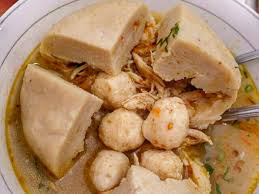bakso: (15, 9, 235, 184)
